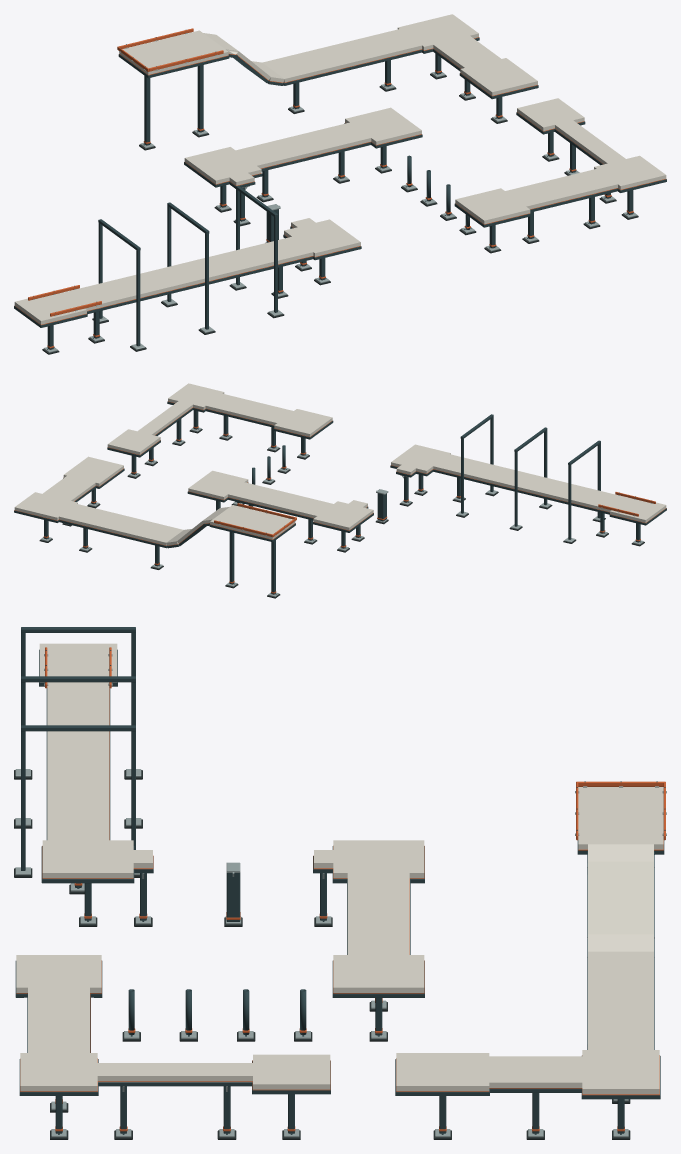
File: water-rush-track.glb
3 renders of one model, top to bottom at view 1: azimuth 30°, elevation 25°; view 2: azimuth 150°, elevation 25°; view 3: azimuth 270°, elevation 25°, orthographic. The views are drawn at different scales.
Parts seen in each view (by area): view 1: TrackStatic; view 2: TrackStatic; view 3: TrackStatic.
Boxes of the visible parts, x1,y1,x2,y2 form: TrackStatic: [14, 14, 666, 354]; TrackStatic: [14, 383, 666, 598]; TrackStatic: [14, 627, 666, 1139].
Bounding box in the file's own units: 54.48 × 8.42 × 33.7.
